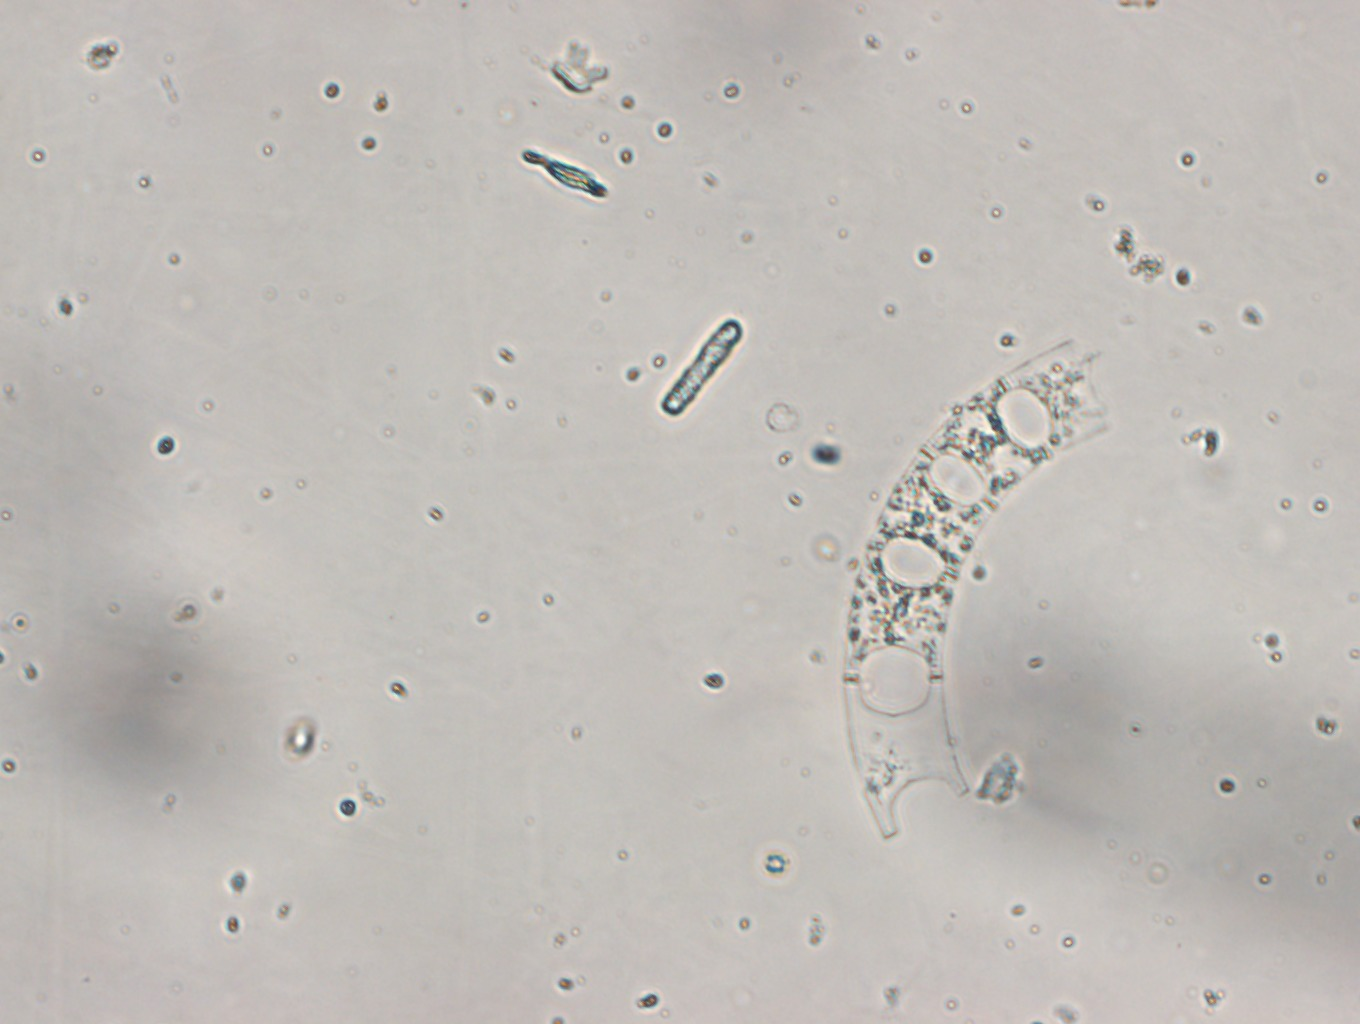eucampia: (825, 337, 1125, 845)
